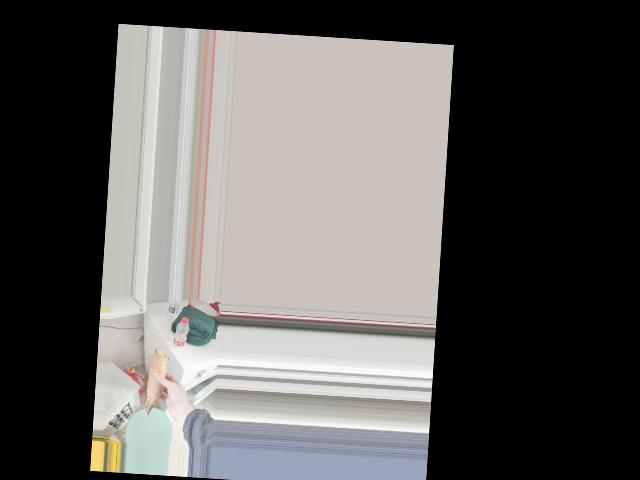sweet_potato: (148, 344, 170, 412)
